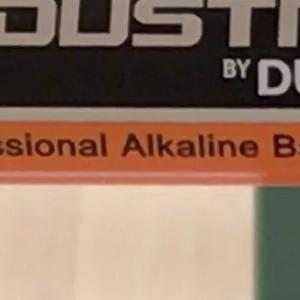keyword: (112, 124, 164, 167)
